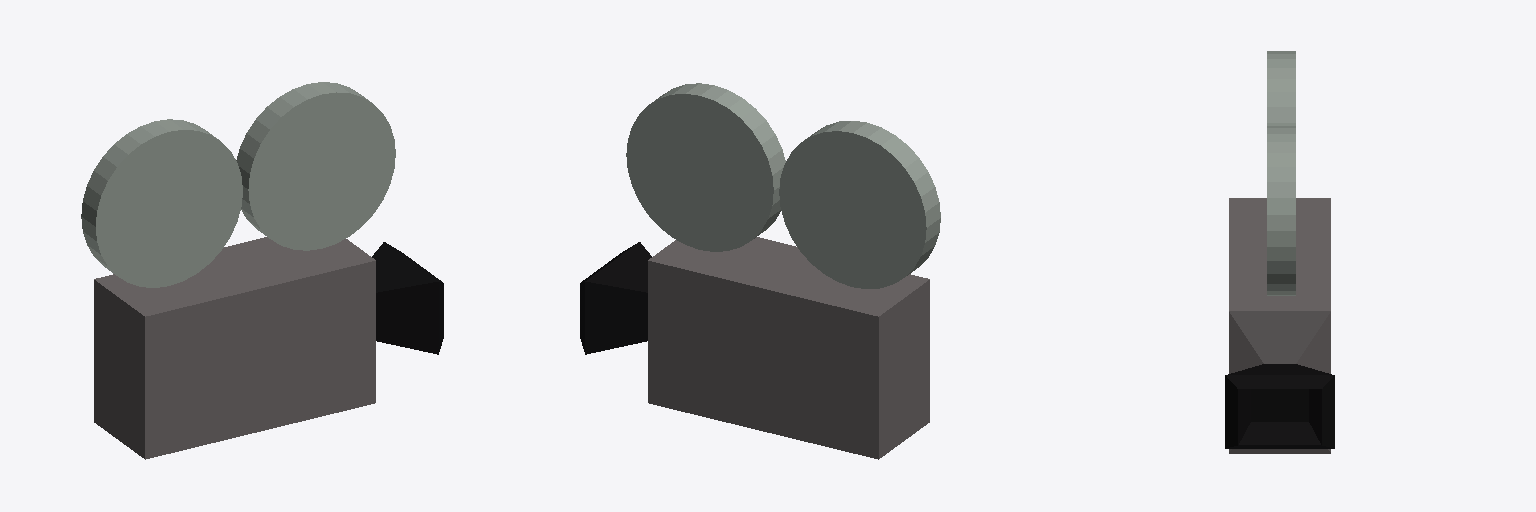
The model's file is video_camera.obj.
3 views of the same model, side by side, from view 1: azimuth 30°, elevation 25°; view 2: azimuth 150°, elevation 25°; view 3: azimuth 270°, elevation 25° (orthographic).
Bounding box in the file's own units: 4.88 × 4.24 × 1.38.